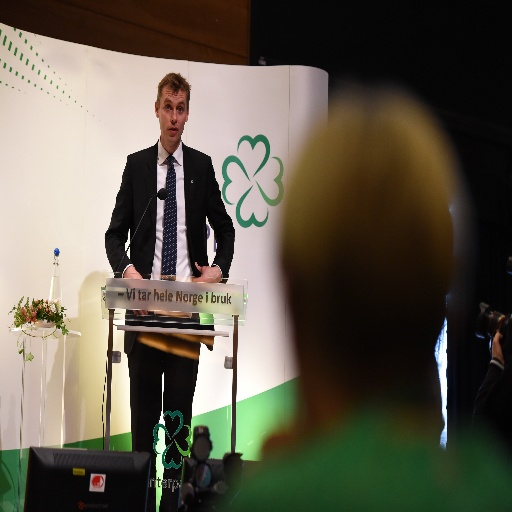hand: (124, 266, 150, 318), (191, 259, 220, 292), (491, 332, 504, 366)
